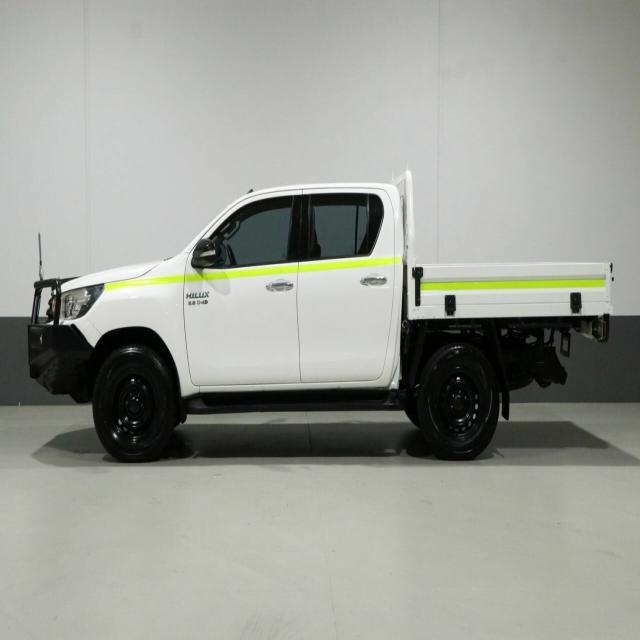light_vehicle: (20, 159, 620, 489)
